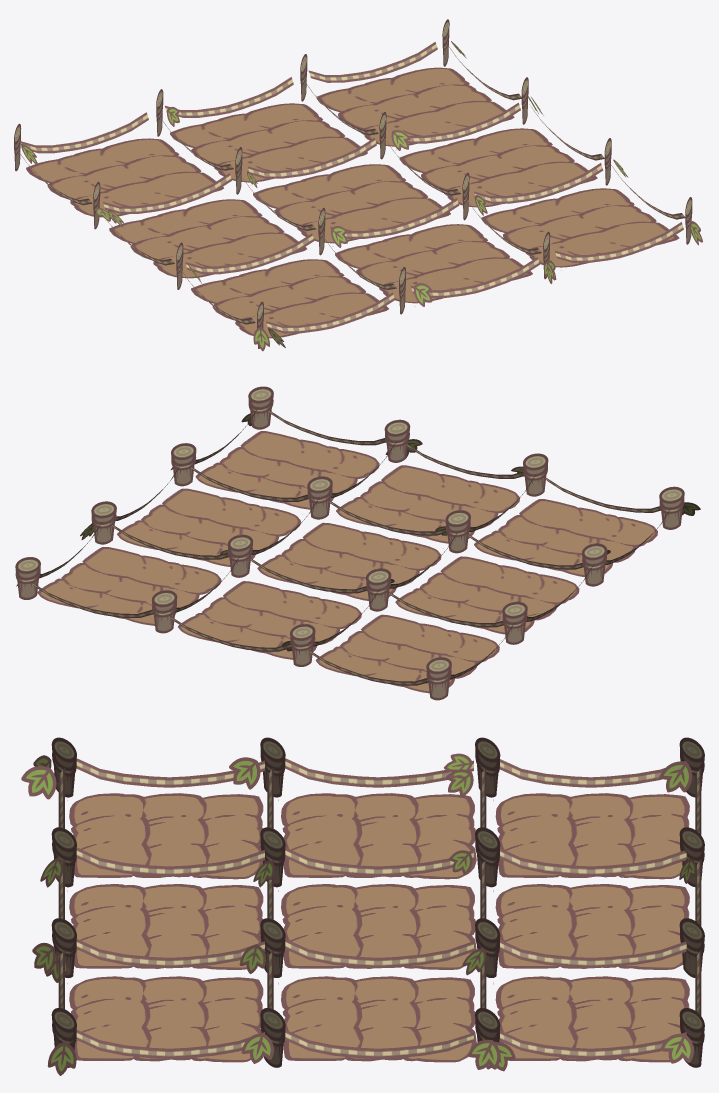
Rendered from Mesh_Home_Farm_SM.FBX.
The picture shows the model from 3 angles, top to bottom: view 1: azimuth 30°, elevation 25°; view 2: azimuth 150°, elevation 25°; view 3: azimuth 270°, elevation 25°; orthographic projection. The views are drawn at different scales.
Parts seen in each view (by area): view 1: Mesh_Home_Farm; view 2: Mesh_Home_Farm; view 3: Mesh_Home_Farm.
Boxes of the visible parts, bbox=[...] form: Mesh_Home_Farm: bbox=[14, 19, 702, 351]; Mesh_Home_Farm: bbox=[15, 386, 700, 700]; Mesh_Home_Farm: bbox=[21, 737, 704, 1075].
Bounding box in the file's own units: 256 × 26.81 × 252.
Materials: 1 (1 with a texture image).
